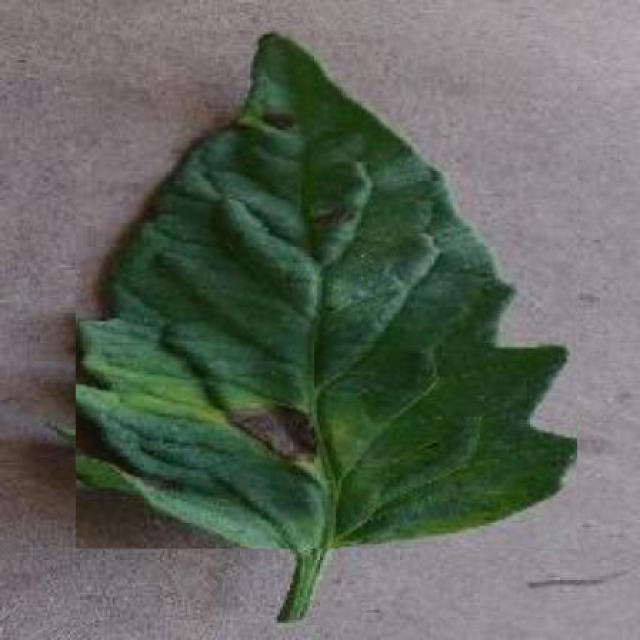Early Blight: (76, 30, 577, 549)
